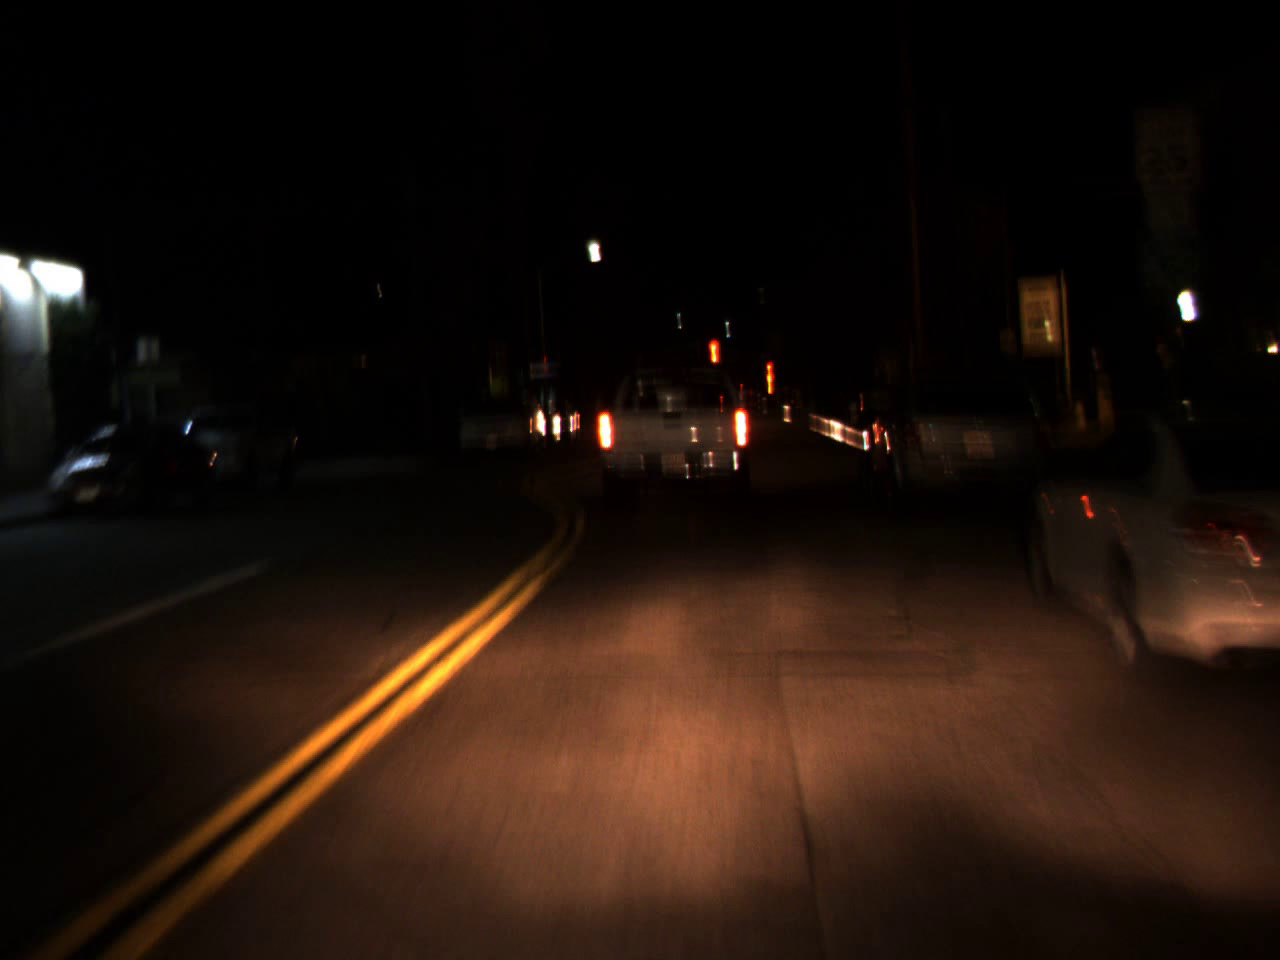stop: (705, 337, 723, 366), (764, 358, 776, 401)
